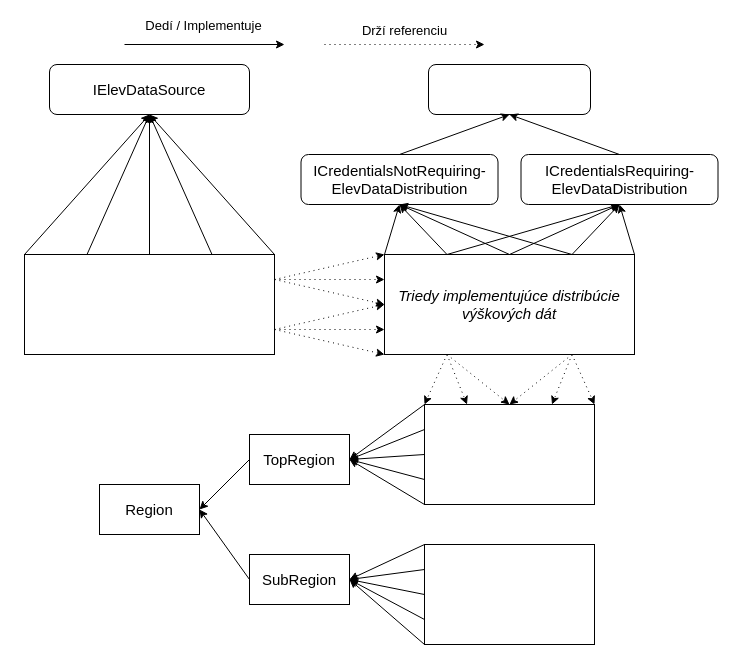
Image size: 736x670. Some labels were removed from this diagram. Each missing label, with the centre of its shape:
"IElevDataDistribution" belongs at (509,89).
"Triedy implementujúce zdroje výškových dát" belongs at (149,304).
"Triedy reprezentujúce pod-regióny" belongs at (509,594).
"Triedy reprezentujúce vrcholové regióny" belongs at (509,454).
